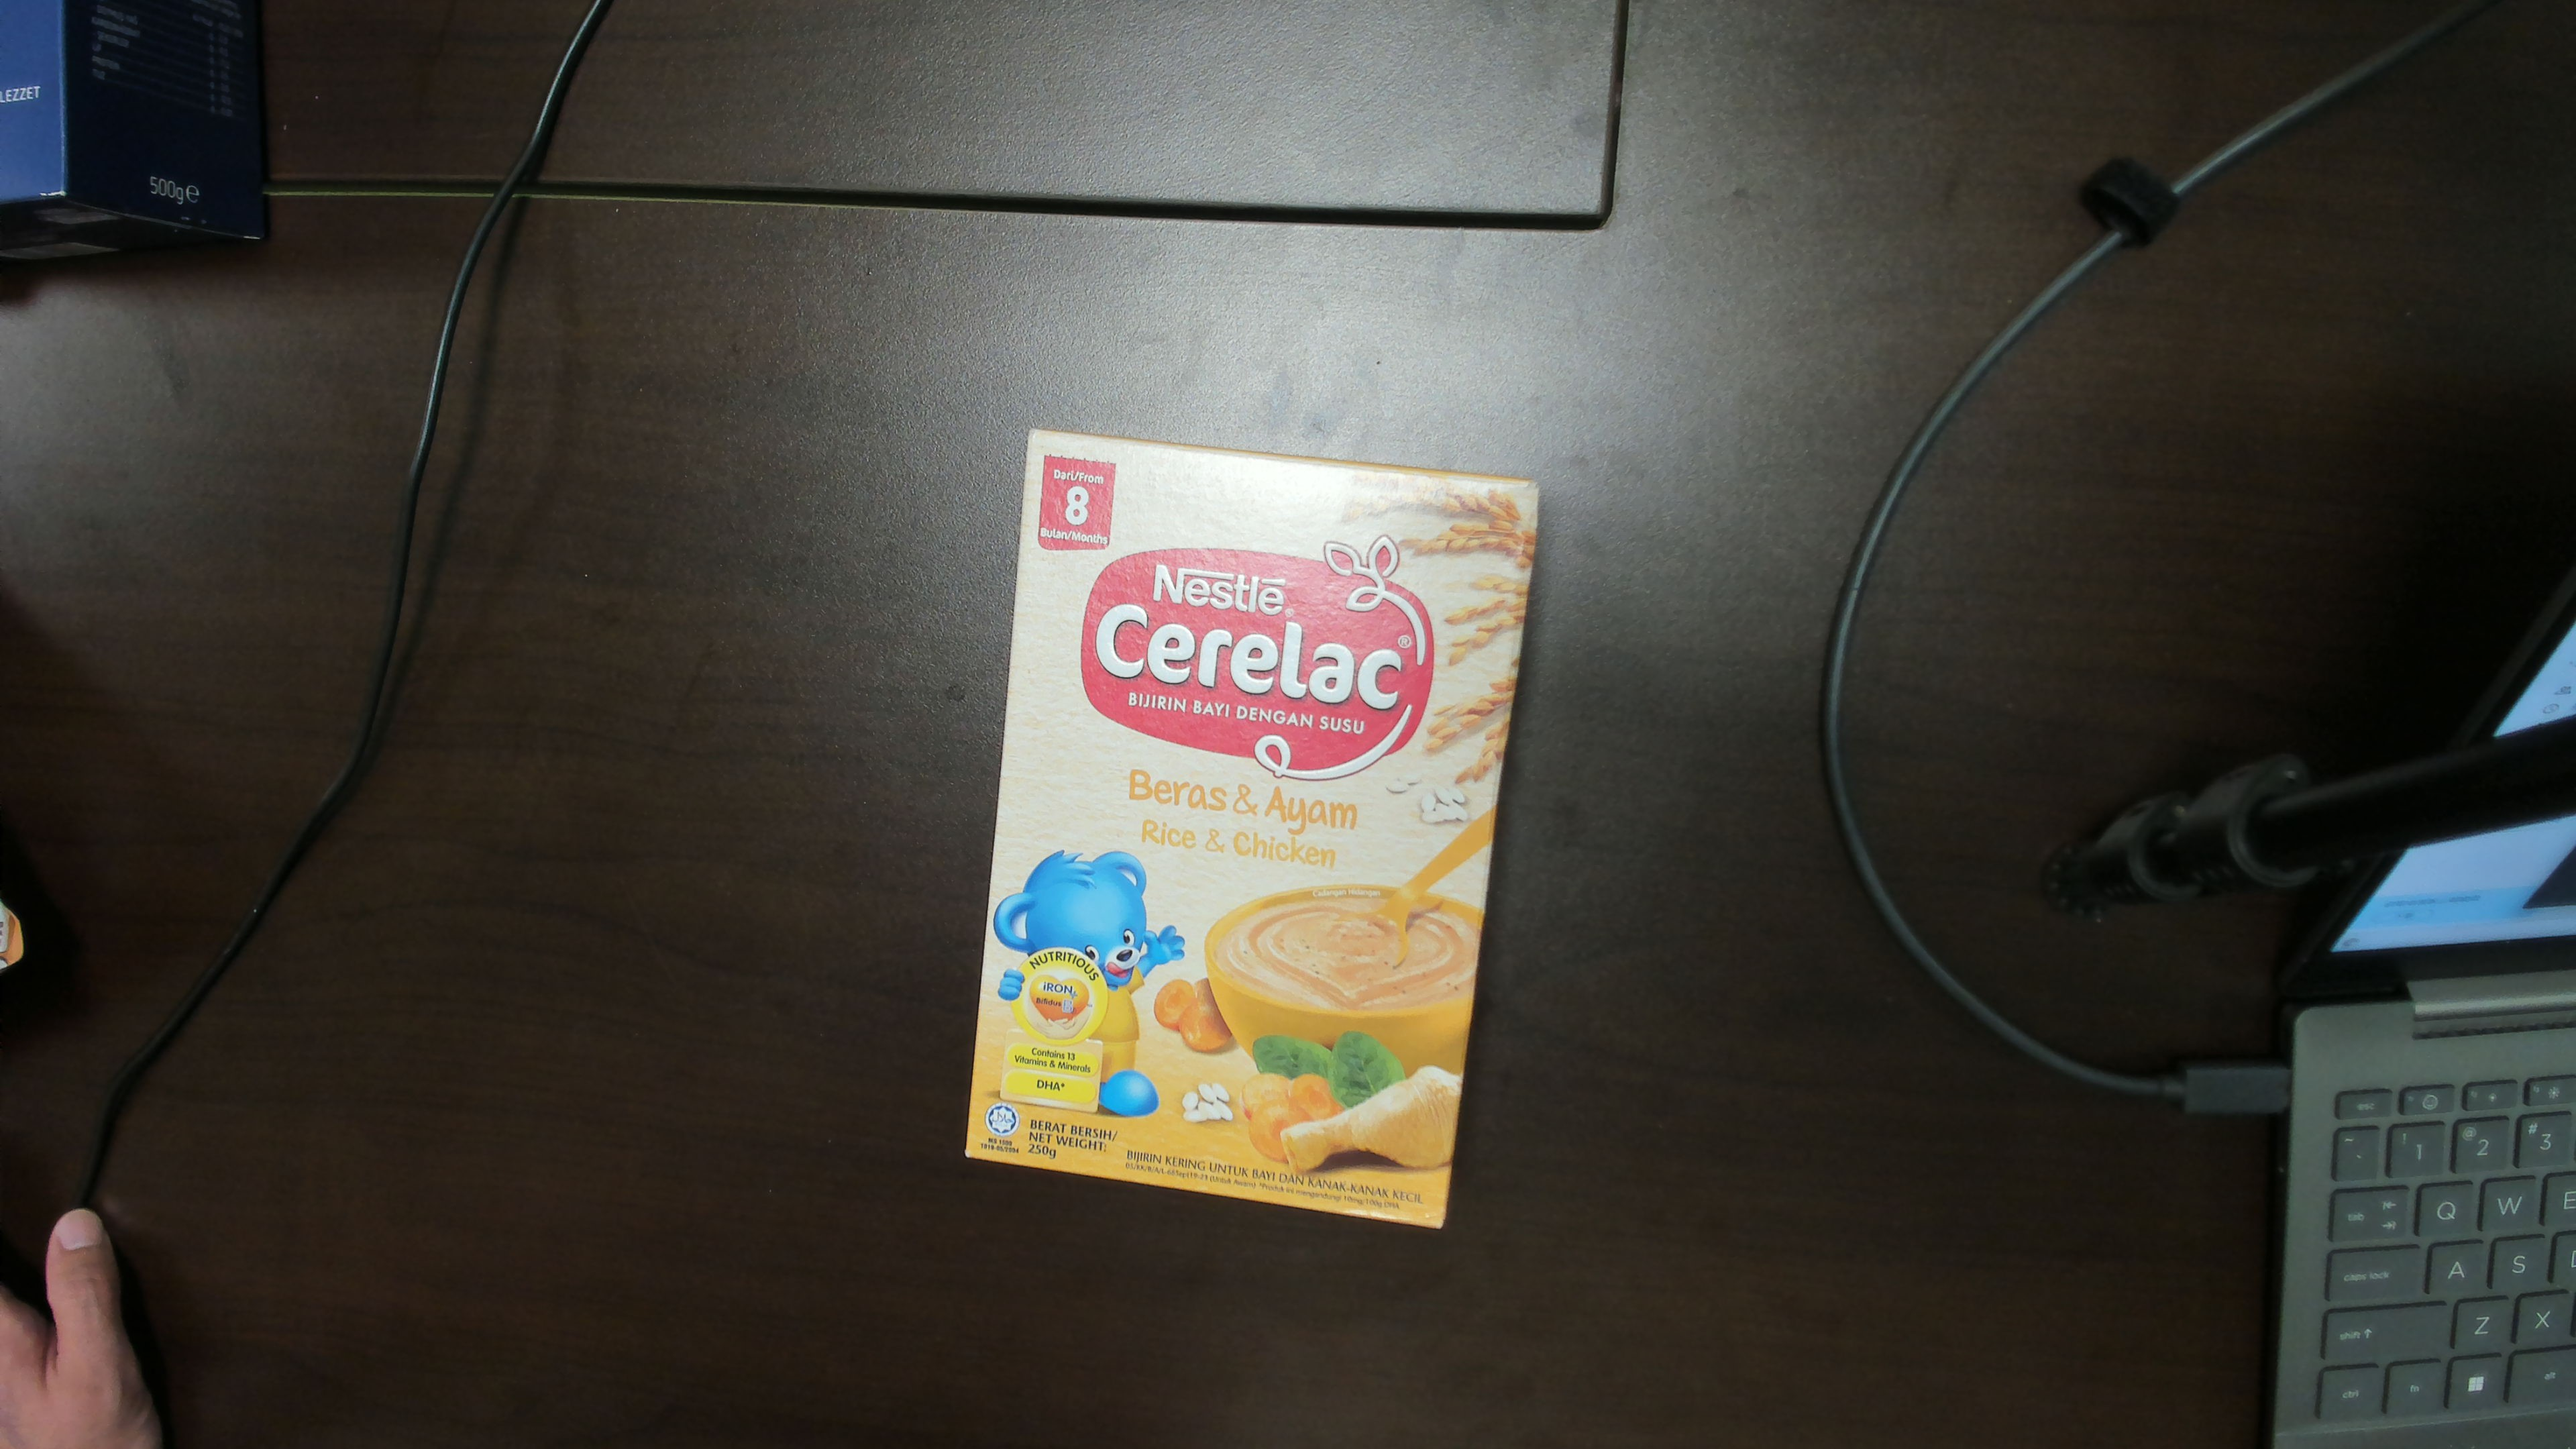Babyfood_200-299g_Halal_NonHealthy: (1026, 518, 1458, 1162)
